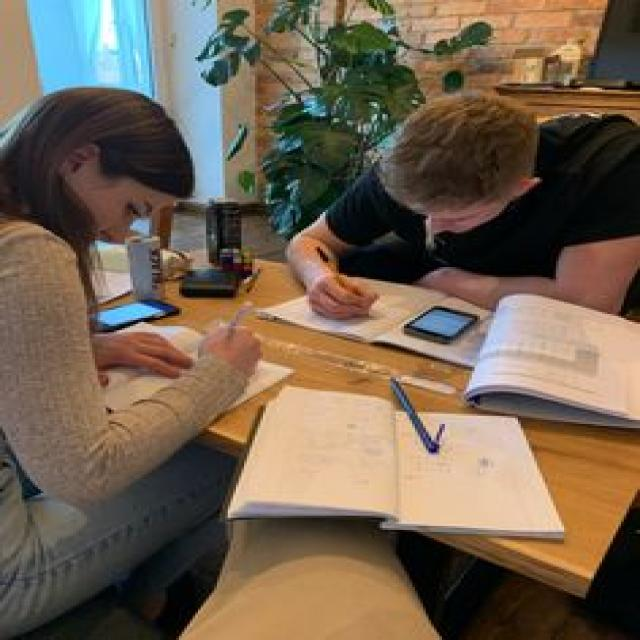9_cabeza_baja: (379, 89, 542, 235)
